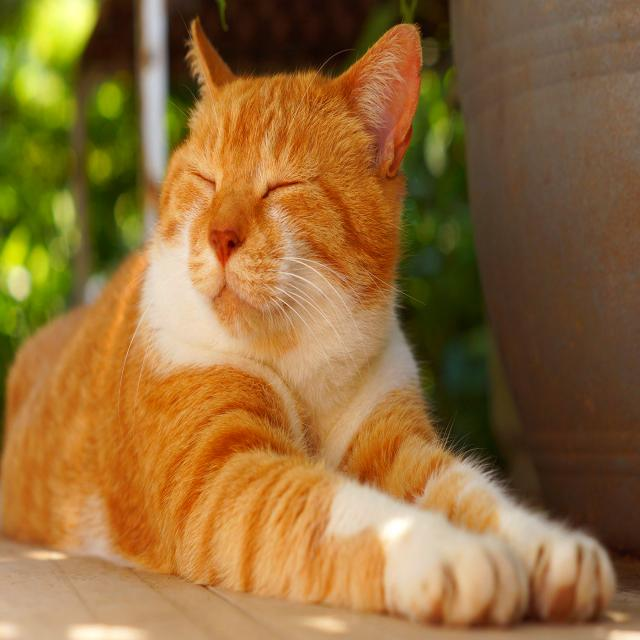cat: (0, 21, 615, 623)
